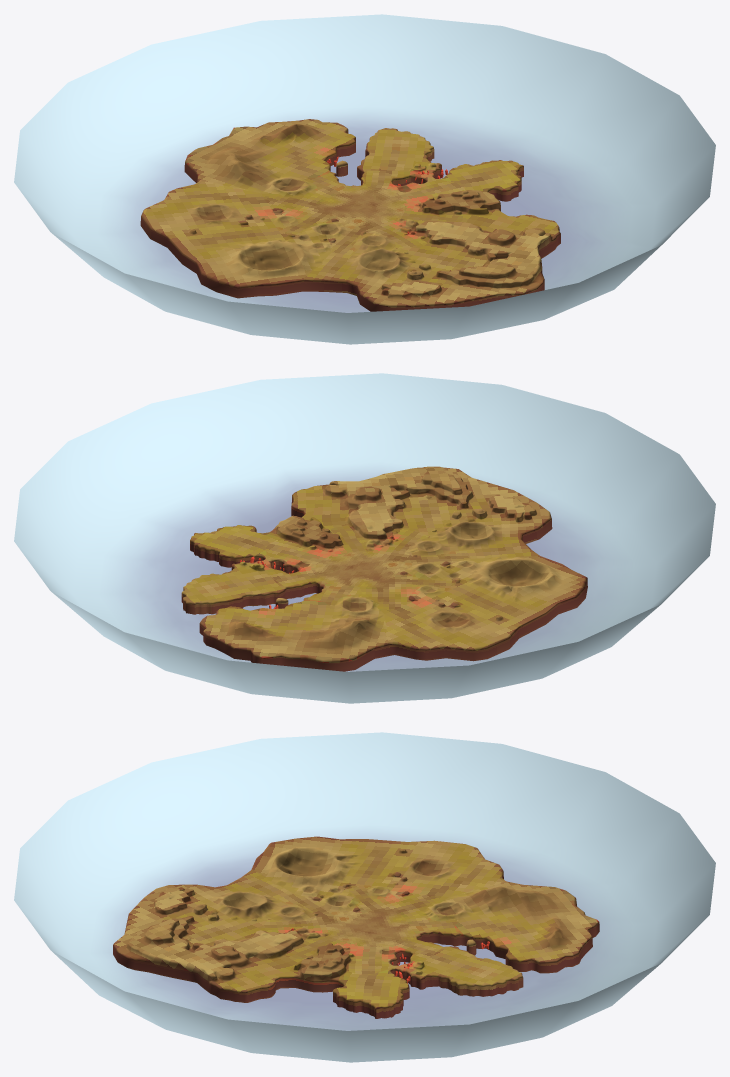
File: Terrain没矿2.fbx
3 renders of one model, top to bottom at view 1: azimuth 30°, elevation 25°; view 2: azimuth 150°, elevation 25°; view 3: azimuth 270°, elevation 25°, orthographic.
Visible parts, largest first — view 1: sea, floor; view 2: sea, floor; view 3: sea, floor.
Part boxes in pixels (<box>): sea: <box>14,14,715,344</box>; floor: <box>140,119,560,311</box>; sea: <box>14,373,715,703</box>; floor: <box>181,466,587,671</box>; sea: <box>14,732,715,1062</box>; floor: <box>113,836,599,1018</box>.
Bounding box in the file's own units: 281 × 25 × 279.
